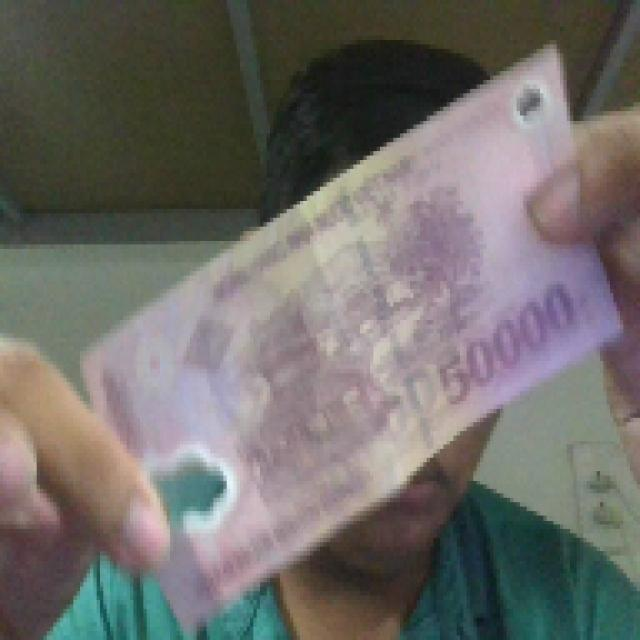50 000 VND: (75, 36, 625, 631)
